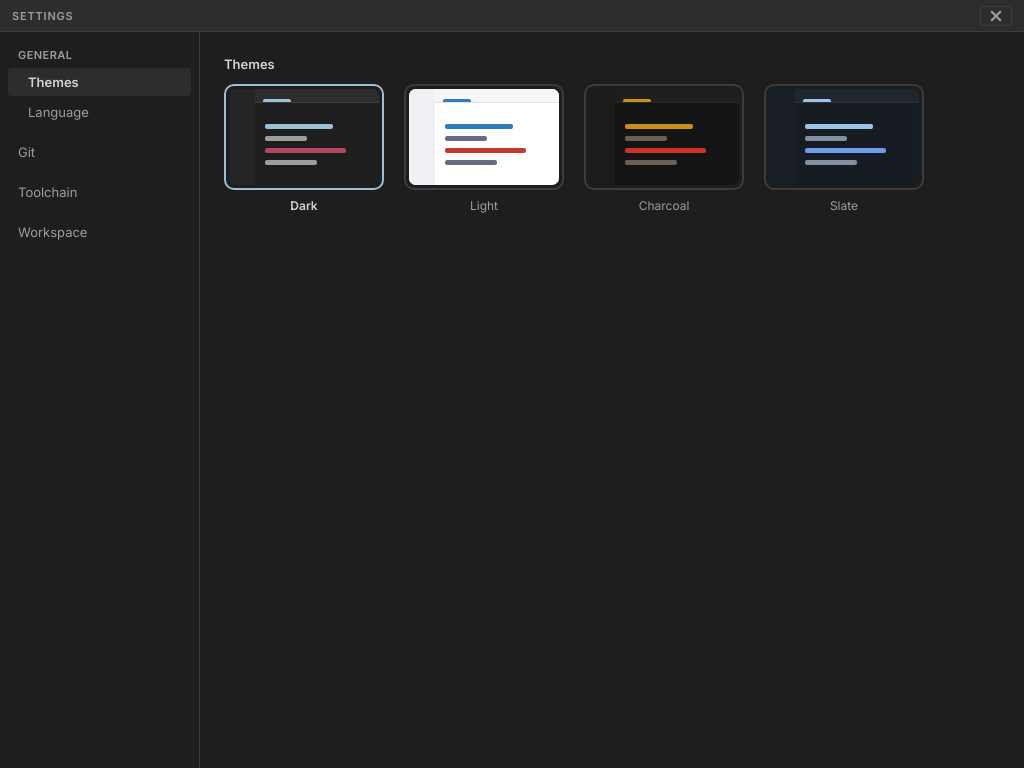
Test: SettingsView › switches to the Language page when clicked
Click the button "Language". click: coordinates (100, 112)
box: left=8, top=98, right=191, bottom=126
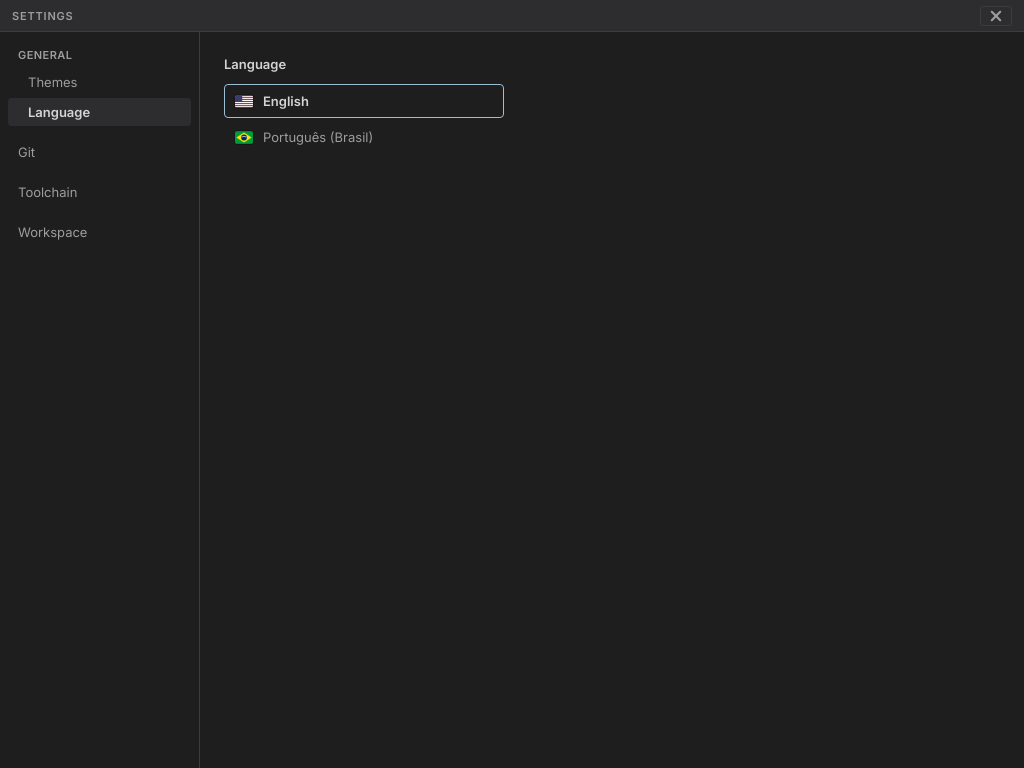
Result: the element with id "settings-content" shows "English" at left=224, top=84, right=504, bottom=118
